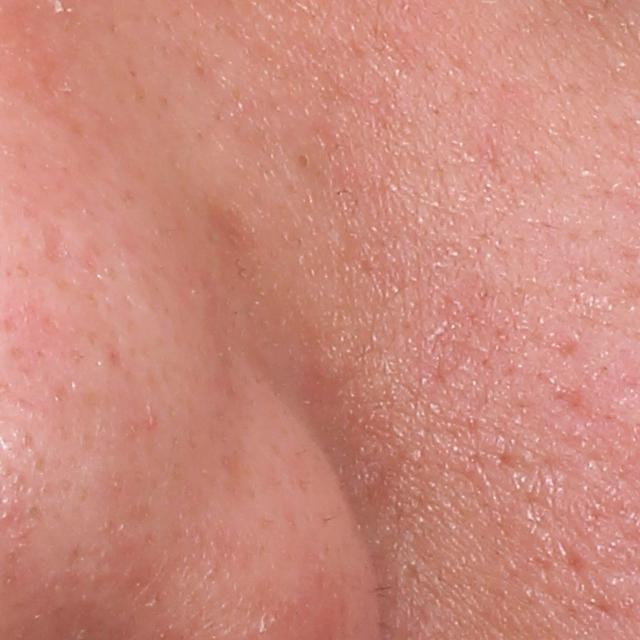atrophic_scar: (494, 454, 563, 518), (547, 381, 609, 425), (41, 224, 71, 265)
comedo: (292, 152, 308, 172)
